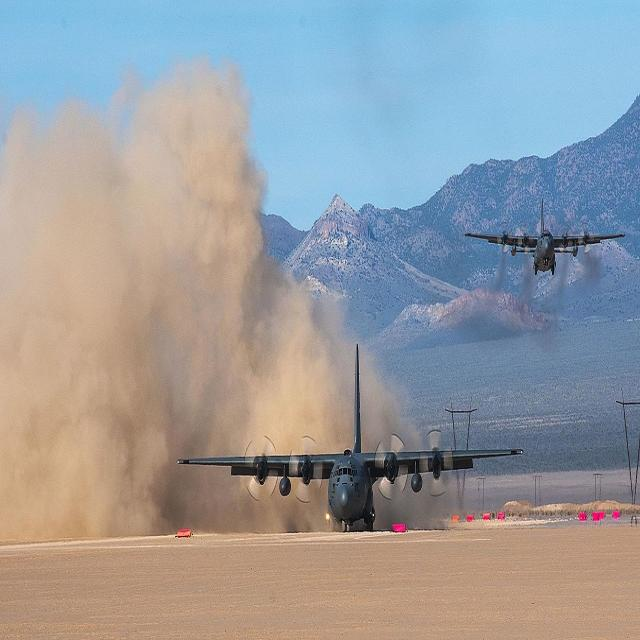MIL_Plane: (173, 25, 521, 211), (464, 165, 626, 244)
